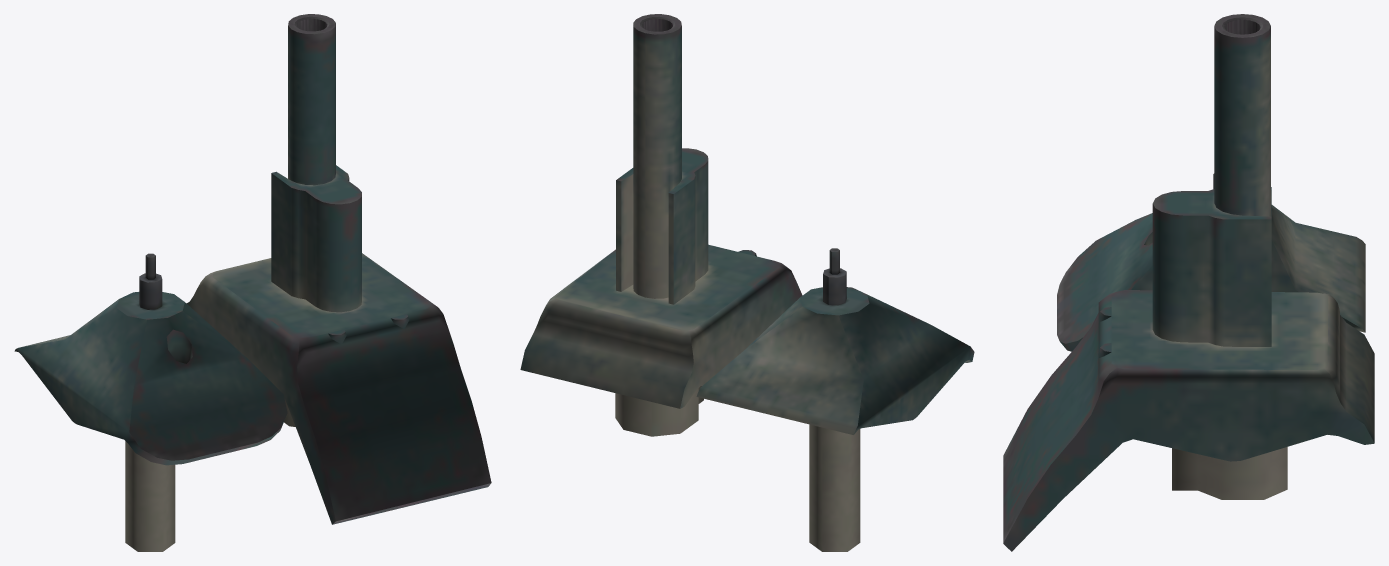
The model's file is Gun_04.glb.
3 views of the same model, side by side, from view 1: azimuth 30°, elevation 25°; view 2: azimuth 150°, elevation 25°; view 3: azimuth 270°, elevation 25° (orthographic). The views are drawn at different scales.
Visible parts, largest first — view 1: set_0_group_0; view 2: set_0_group_0; view 3: set_0_group_0.
Boxes of the visible parts, x1,y1,x2,y2 form: set_0_group_0: (14, 14, 491, 551); set_0_group_0: (520, 14, 974, 551); set_0_group_0: (1003, 14, 1374, 551).
Size of the model in its own units: 0.5708 by 0.797 by 0.4834.
1 material, 1 textured.
